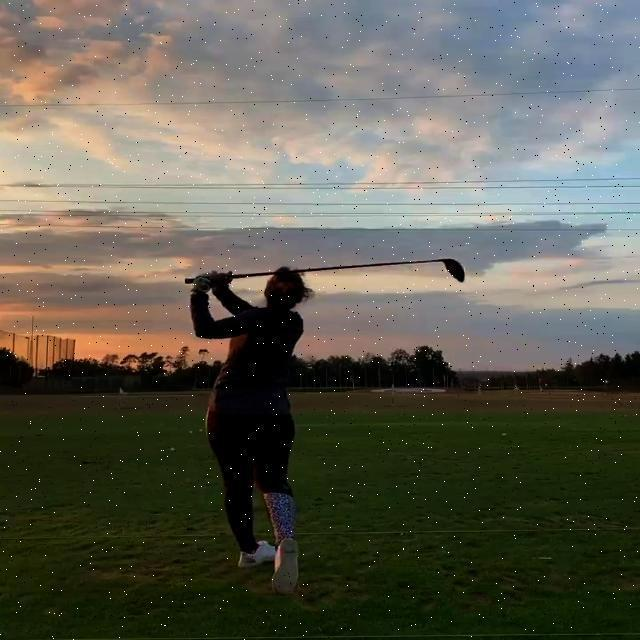ClubHead: (444, 258, 465, 284)
